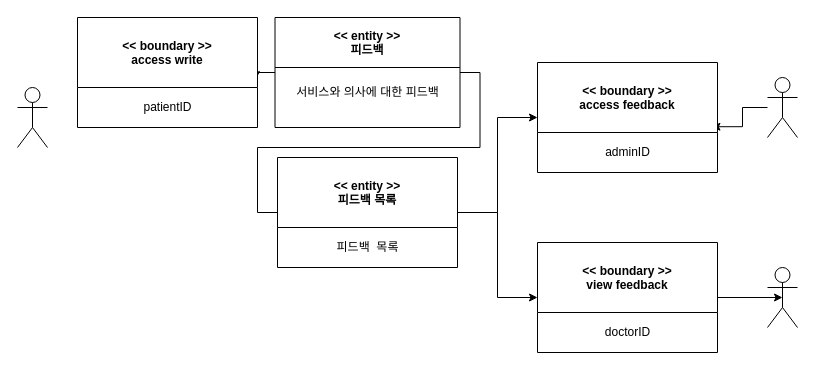
Image size: 816x370. Some labels were removed from this diagram. The shapes that lost their labels are listed below. From the top down, each one's centre as x and y in pixels, then its label:
At (32,117): "환자".
At (782,107): "관리자".
At (782,297): "의사".
